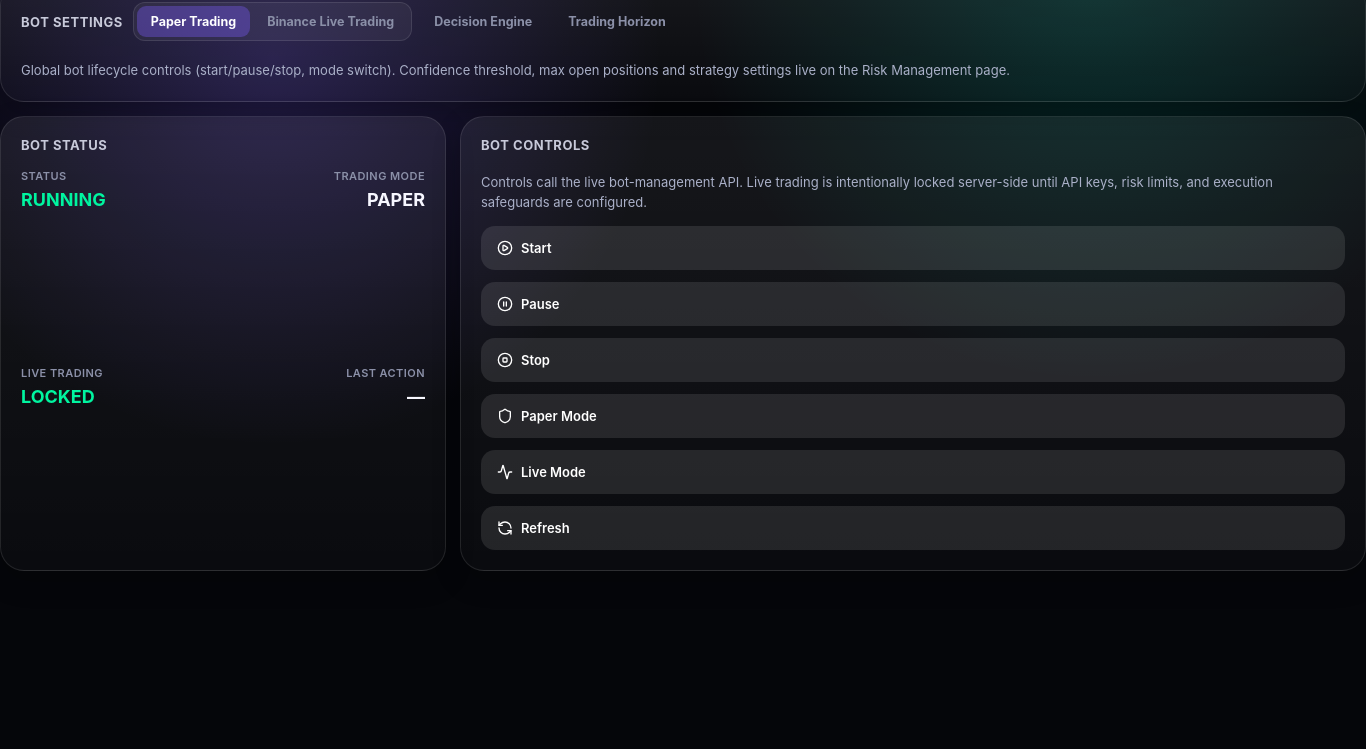
Test: BotSettingsPage - Binance Live Trading tab › shows signed account read separately from public/account connected in the API Key Status card
The width and height of the screenshot is (1366, 749).
Click the tab "Binance Live Trading".
click(331, 22)  # box top-left (253, 6), bottom-right (408, 37)
(page scrolled)
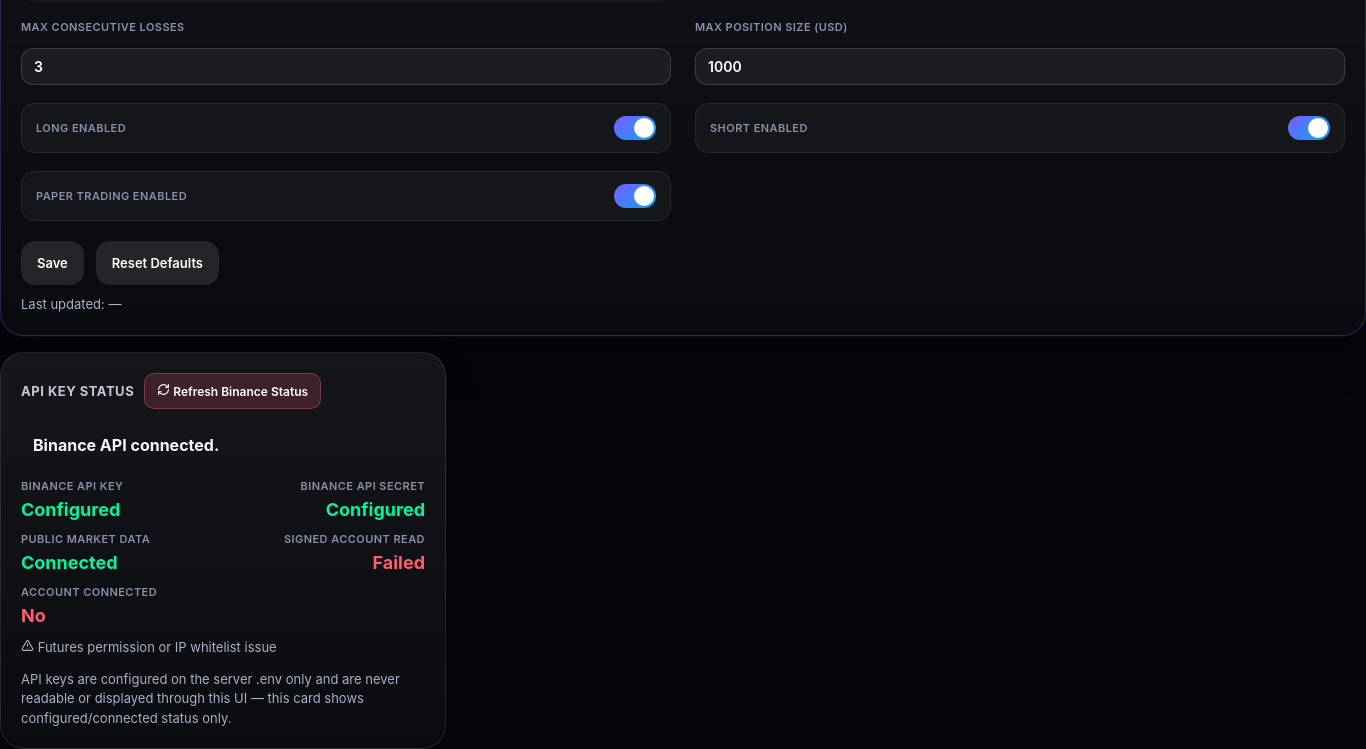
Result: the text "API Key Status" is shown at top-left (21, 383), bottom-right (134, 399)
Result: the text "Public Market Data" is shown at top-left (21, 532), bottom-right (150, 546)
Result: the text "Signed Account Read" is shown at top-left (284, 532), bottom-right (425, 546)
